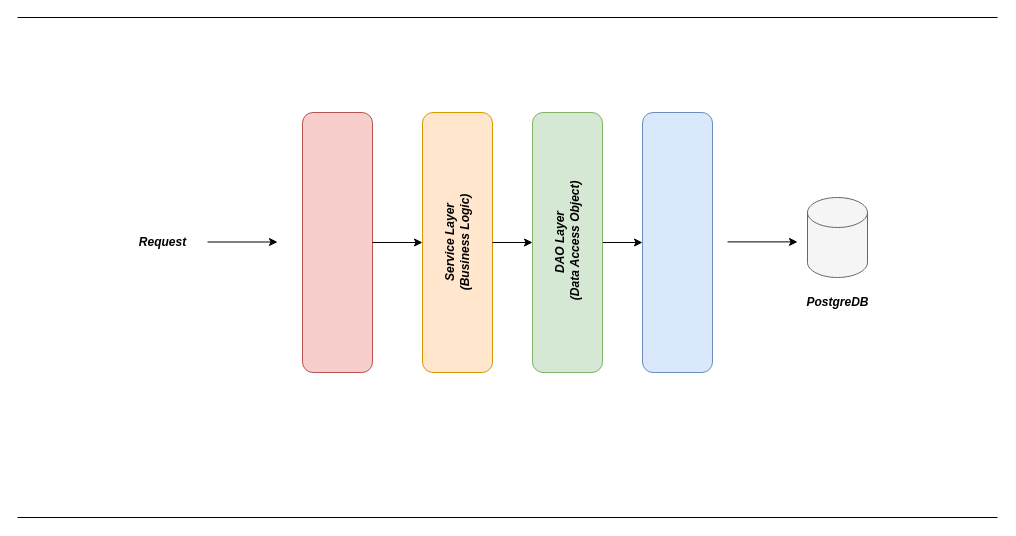
Some shapes in this 1016 by 536 pixel diagram are drawn without their labels. Here are the shapes that lost their labels. From the top down, the box of each, then its label:
(302, 112, 372, 372): Controller Layer (Service Controllers)
(642, 112, 712, 372): Hibernate (ORM Framework)
